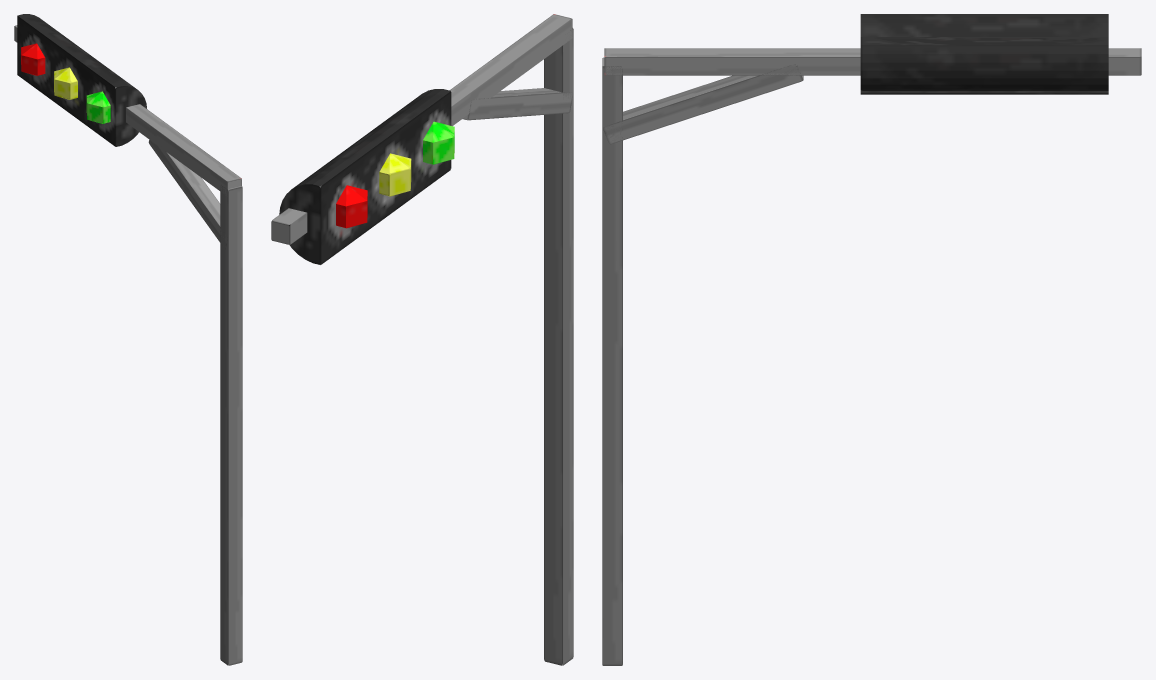
Rendered from lumiere.obj.
The picture shows the model from 3 angles, left to right: view 1: azimuth 30°, elevation 25°; view 2: azimuth 150°, elevation 25°; view 3: azimuth 270°, elevation 25°; orthographic projection. The views are drawn at different scales.
Visible parts, largest first — view 1: sphere; view 2: sphere; view 3: sphere.
Part boxes in pixels (left/top/right/bottom): sphere: left=14, top=14, right=242, bottom=665; sphere: left=271, top=14, right=573, bottom=665; sphere: left=602, top=14, right=1141, bottom=665.
Bounding box in the file's own units: 0.103 × 1.06 × 0.8156.
1 material, 1 textured.
